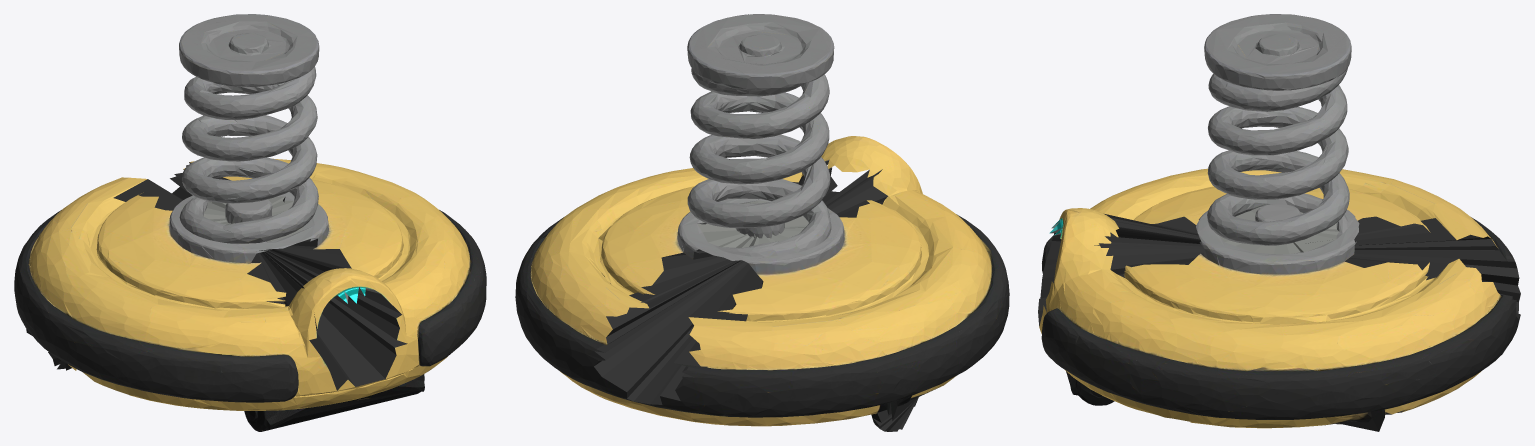
File: vacbot_v1.glb
3 views of the same model, side by side, from view 1: azimuth 30°, elevation 25°; view 2: azimuth 150°, elevation 25°; view 3: azimuth 270°, elevation 25° (orthographic). The views are drawn at different scales.
Parts seen in each view (by area): view 1: body_mesh, spring_mesh; view 2: body_mesh, spring_mesh; view 3: body_mesh, spring_mesh.
Boxes of the visible parts, left/top/right/bottom form: body_mesh: left=14, top=158, right=486, bottom=431; spring_mesh: left=171, top=14, right=384, bottom=303; body_mesh: left=515, top=155, right=1009, bottom=431; spring_mesh: left=680, top=14, right=900, bottom=262; body_mesh: left=1038, top=168, right=1520, bottom=431; spring_mesh: left=1049, top=14, right=1359, bottom=262.
Size of what is drawn, in the model's own units: 1 by 0.7261 by 0.976.
1 material, 1 textured.
